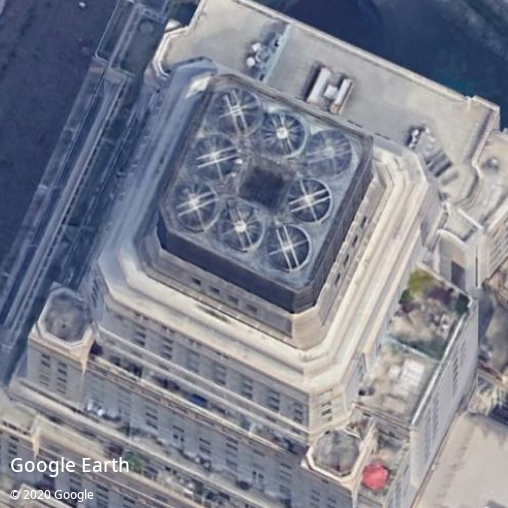Vent: (216, 88, 262, 137), (306, 130, 353, 177), (193, 134, 238, 181), (175, 181, 217, 230), (261, 112, 306, 157), (220, 204, 264, 250), (266, 225, 310, 271), (288, 178, 331, 223)
